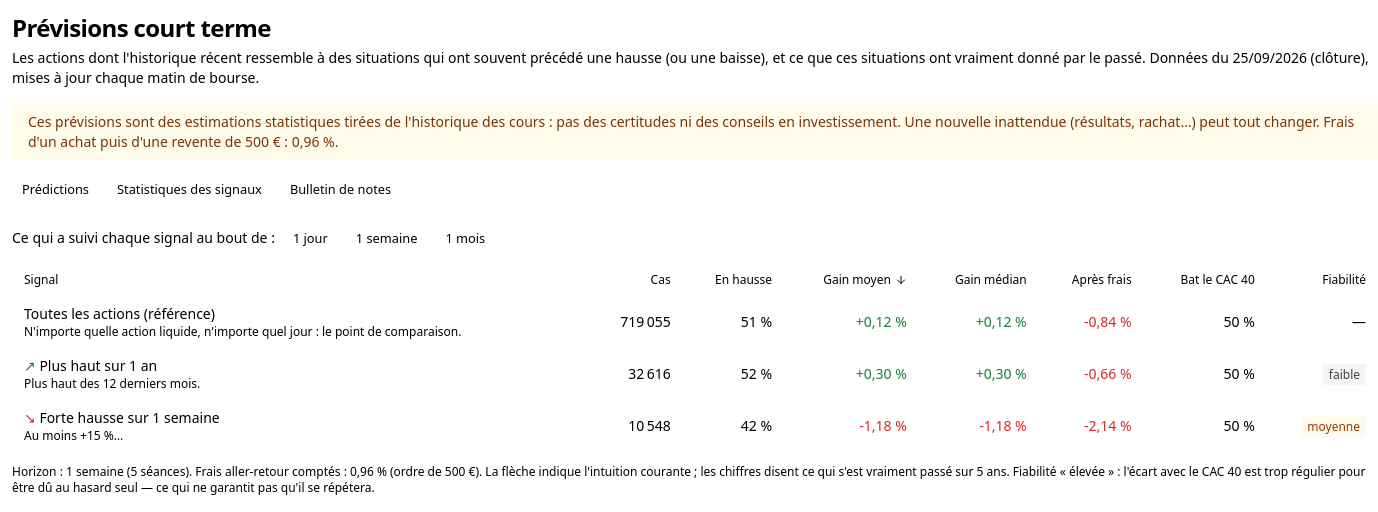
Test: statistiques des signaux : référence en tête et choix de l'horizon
Check: the row that starts with "Toutes les actions (référence)" is shown, box [24,304,215,323]
Check: the text "42 %" is shown, box [683,400,784,452]
Click the button "1 jour": (310, 238) [283,224,338,252]
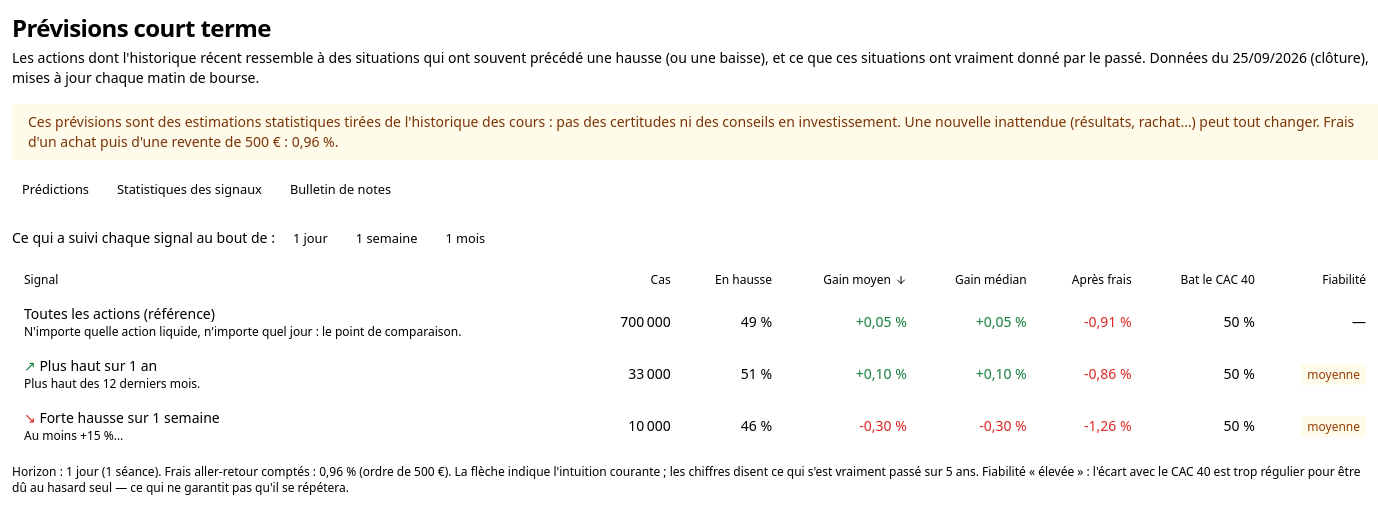
Check: the text "46 %" is shown, box [683,400,784,452]
Check: the text "42 %" is gone
